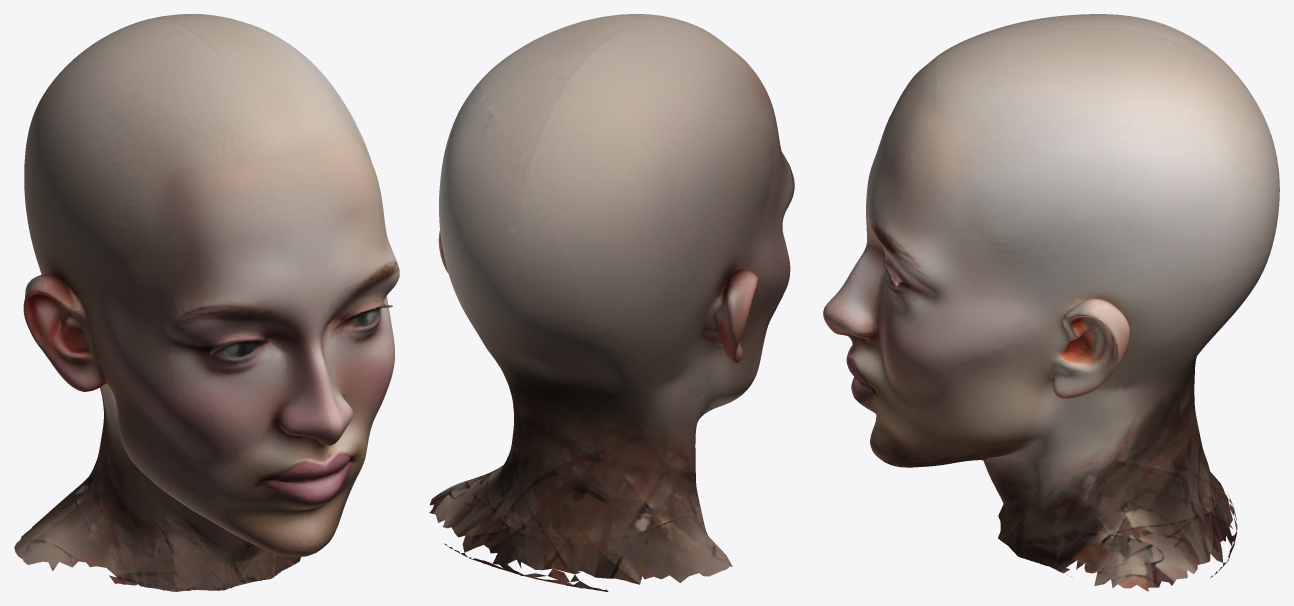
Rendered from asset.glb.
3 renders of one model, left to right at view 1: azimuth 30°, elevation 25°; view 2: azimuth 150°, elevation 25°; view 3: azimuth 270°, elevation 25°, orthographic. The views are drawn at different scales.
Visible parts, largest first — view 1: world; view 2: world; view 3: world.
Part boxes in pixels (left/top/right/bottom): world: left=14, top=14, right=399, bottom=591; world: left=429, top=14, right=794, bottom=591; world: left=823, top=14, right=1279, bottom=591.
Bounding box in the file's own units: 0.6659 × 1 × 0.8309.
1 material, 1 textured.
